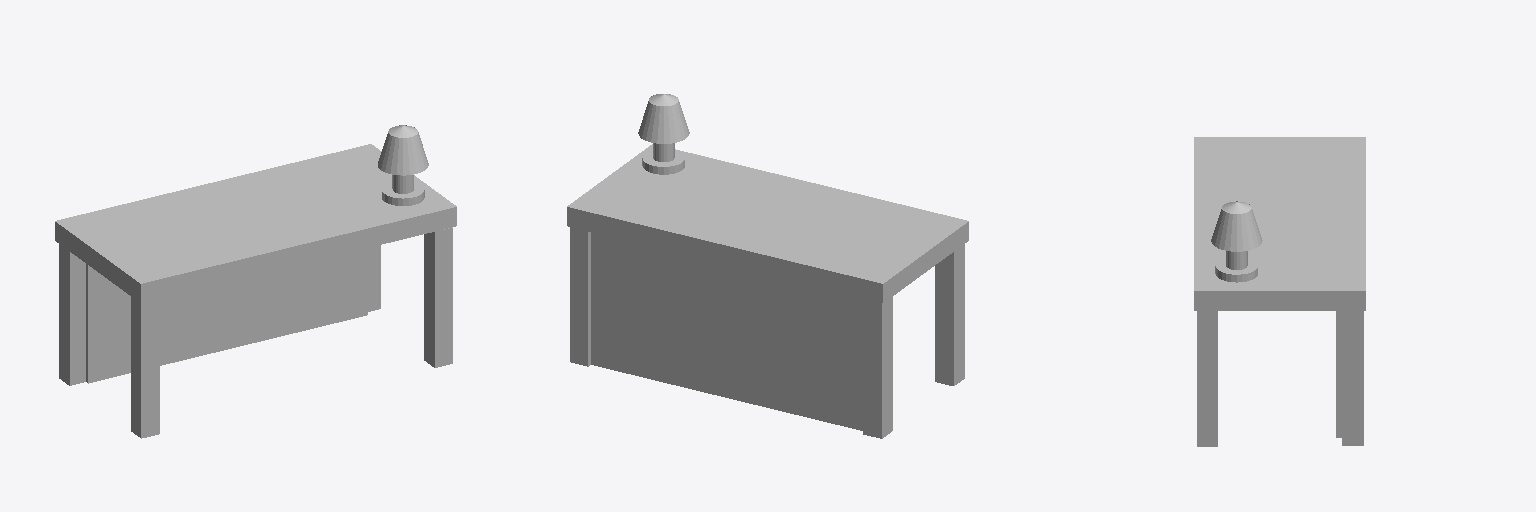
The model's file is desk.obj.
3 renders of one model, left to right at view 1: azimuth 30°, elevation 25°; view 2: azimuth 150°, elevation 25°; view 3: azimuth 270°, elevation 25°, orthographic.
Parts seen in each view (by area): view 1: Box, Box5, Box3, Box1, Box4, Cylinder2, Box2, Cylinder4; view 2: Box5, Box, Box4, Box3, Box2, Cylinder2, Cylinder4; view 3: Box, Box2, Box1, Cylinder2, Box5, Cylinder4.
Boxes of the visible parts, x1,y1,x2,y2 form: Box: [55, 144, 456, 302]; Box5: [86, 248, 367, 383]; Box3: [131, 297, 159, 438]; Box1: [424, 227, 452, 367]; Box4: [59, 244, 85, 385]; Cylinder2: [378, 125, 428, 175]; Box2: [368, 245, 380, 311]; Cylinder4: [382, 182, 424, 205]; Box5: [591, 232, 862, 430]; Box: [567, 144, 968, 302]; Box4: [863, 297, 892, 438]; Box3: [935, 244, 964, 385]; Box2: [570, 227, 590, 366]; Cylinder2: [638, 94, 689, 143]; Cylinder4: [642, 150, 684, 174]; Box: [1194, 137, 1365, 310]; Box2: [1342, 311, 1363, 445]; Box1: [1197, 311, 1217, 446]; Cylinder2: [1211, 201, 1262, 251]; Box5: [1336, 311, 1341, 437]; Cylinder4: [1215, 258, 1257, 282].
Size of the model in its own units: 17 by 11.83 by 8.